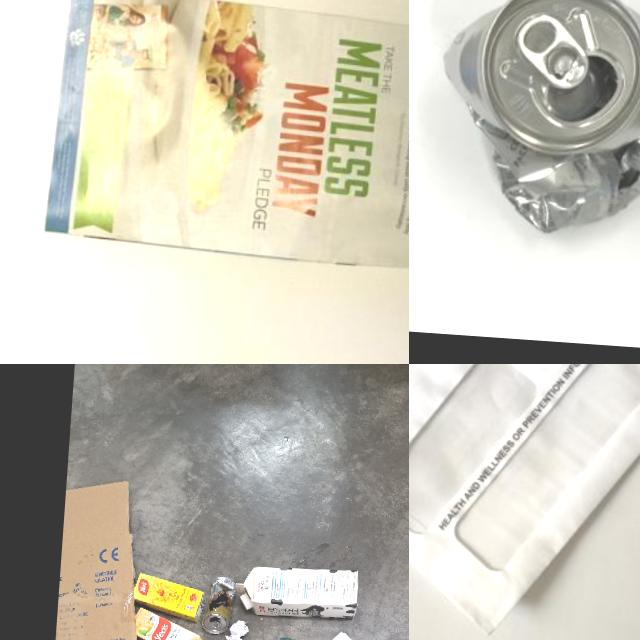aba de lata: (512, 10, 594, 91), (209, 620, 220, 632)
caixinha: (234, 562, 360, 620), (132, 572, 208, 622), (132, 605, 205, 640)
lata: (431, 0, 640, 239), (202, 575, 236, 634)
papel: (44, 0, 409, 271), (409, 364, 640, 640), (223, 617, 255, 640)
papelão: (48, 476, 158, 640)
tampa plástica: (239, 591, 253, 610)
